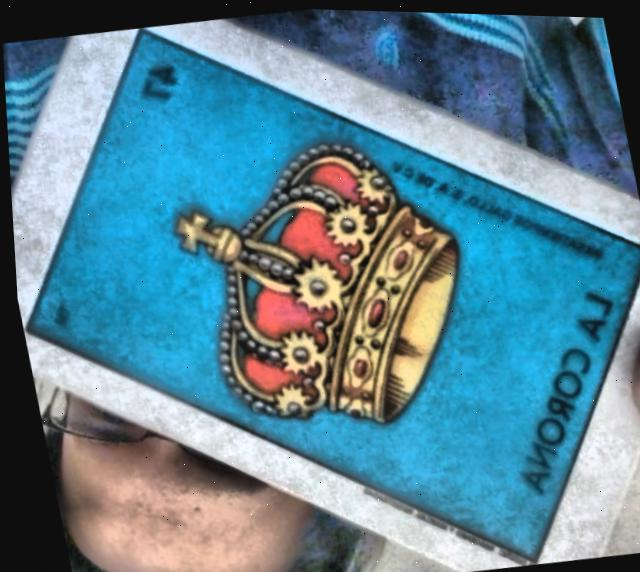La Corona: (24, 28, 640, 556)
